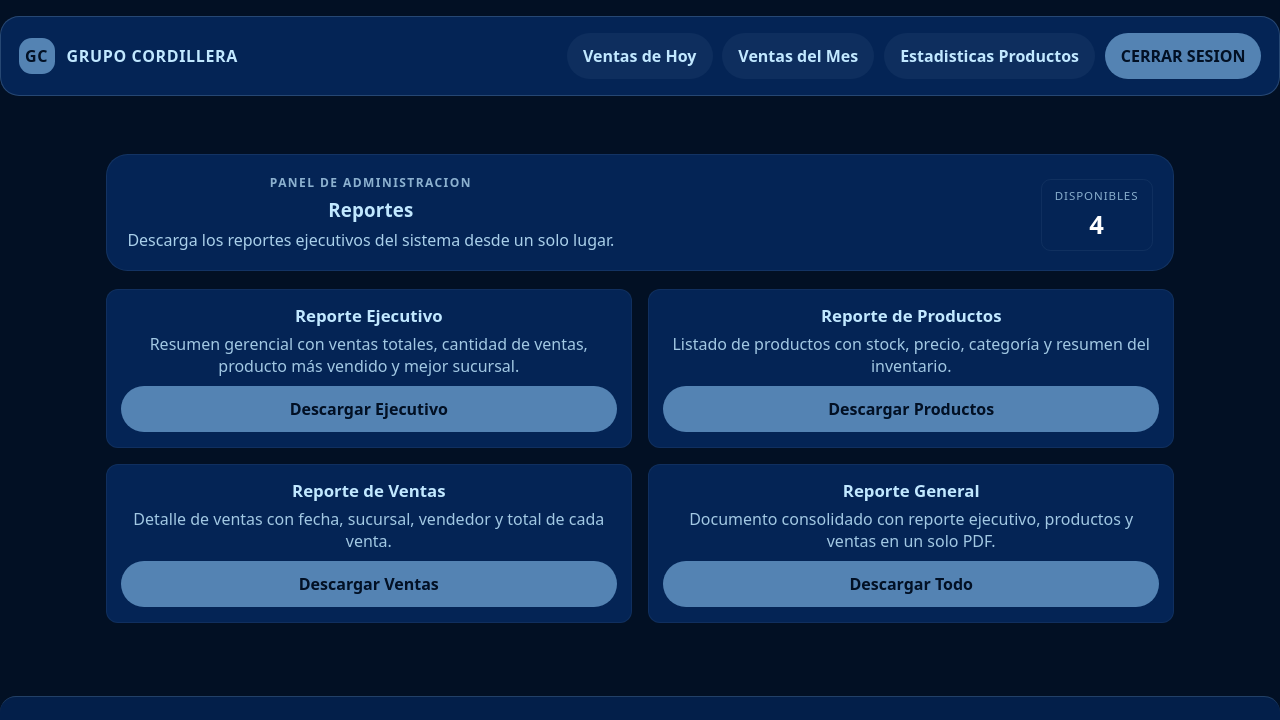
Test: ReportesPage › muestra error desde response.data.message
Click the button "Descargar Ejecutivo" at (369, 409), box [121,386,617,432]
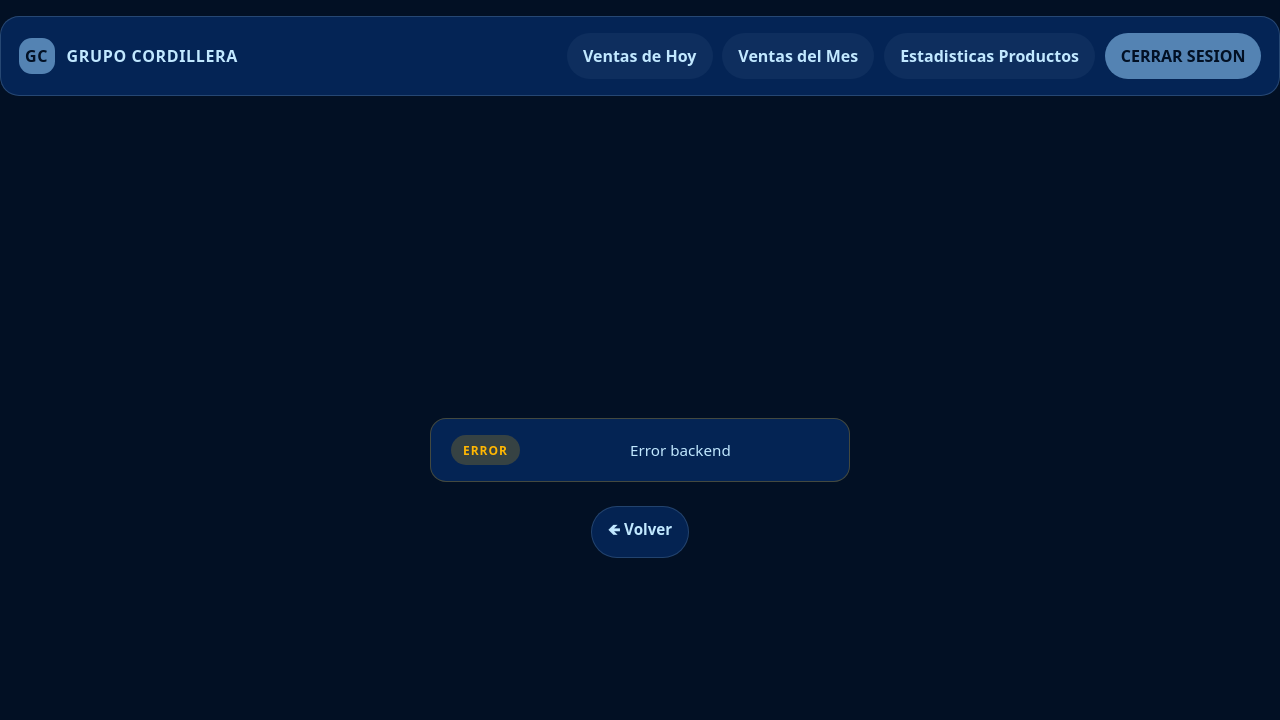
Now the text "Error backend" is shown, box [630,440,731,460]
